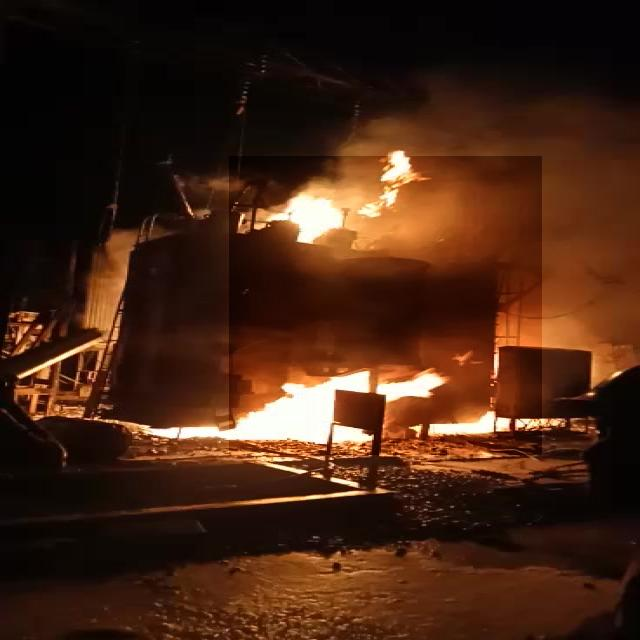Fire: (229, 156, 542, 455)
